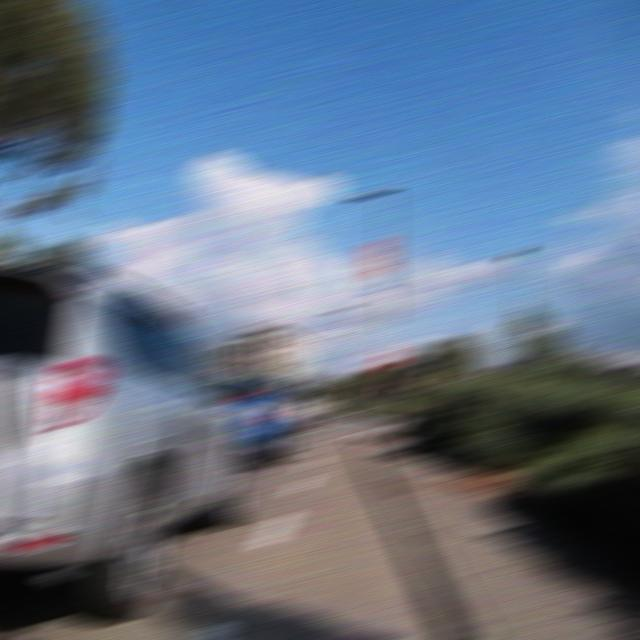stop: (375, 350, 403, 370)
